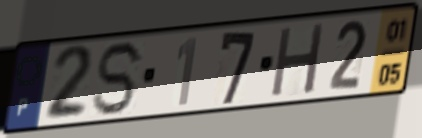1: (174, 34, 200, 108)
2: (45, 42, 97, 126), (326, 18, 369, 92)
7: (219, 29, 257, 107)
H: (268, 20, 328, 100)
S: (90, 38, 148, 119)
